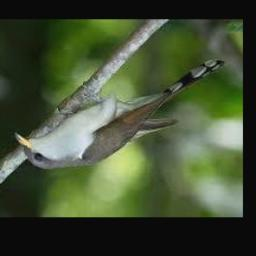Cuckoo: (14, 59, 224, 169)
